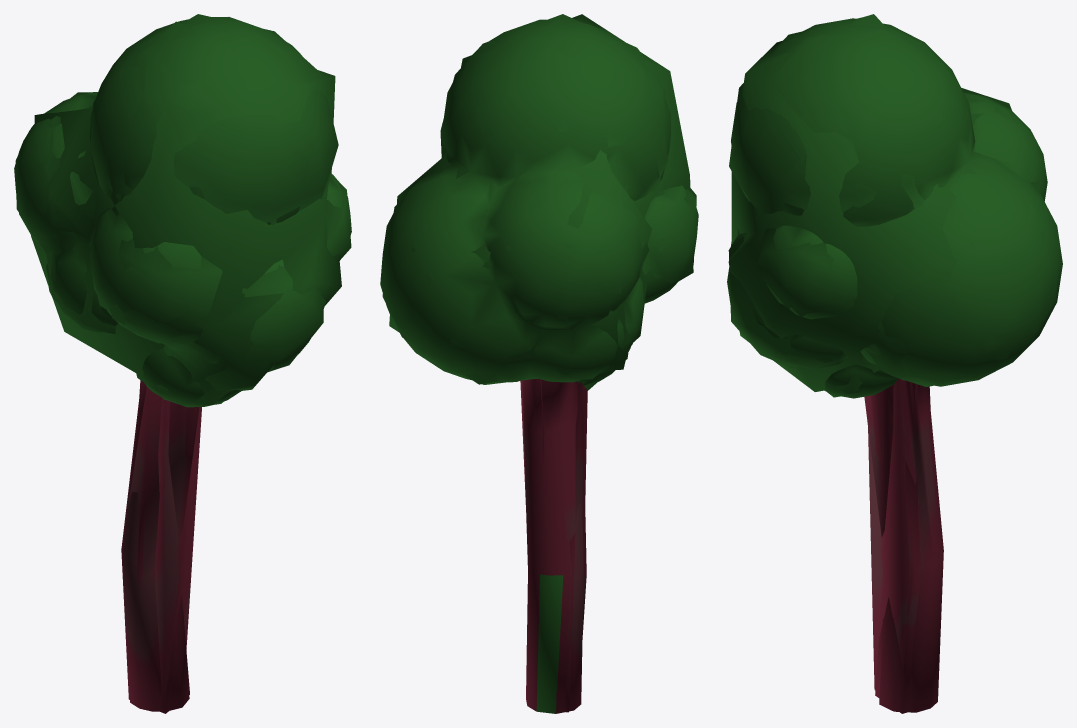
File: Tree.fbx
3 views of the same model, side by side, from view 1: azimuth 30°, elevation 25°; view 2: azimuth 150°, elevation 25°; view 3: azimuth 270°, elevation 25° (orthographic). The views are drawn at different scales.
Visible parts, largest first — view 1: Icosphere.007, Icosphere.002, Icosphere.001; view 2: Icosphere.007, Icosphere.001, Icosphere.002; view 3: Icosphere.007, Icosphere.002, Icosphere.001.
Boxes of the visible parts, x1,y1,x2,y2 form: Icosphere.007: (14,17,351,711); Icosphere.002: (31,21,341,709); Icosphere.001: (15,14,351,713); Icosphere.007: (380,19,698,713); Icosphere.001: (382,14,696,712); Icosphere.002: (389,14,693,712); Icosphere.007: (727,18,1062,712); Icosphere.002: (728,14,1044,689); Icosphere.001: (728,17,1059,713).
Size of the model in its own units: 450 by 1141 by 506.
Materials: 1 (1 with a texture image).
